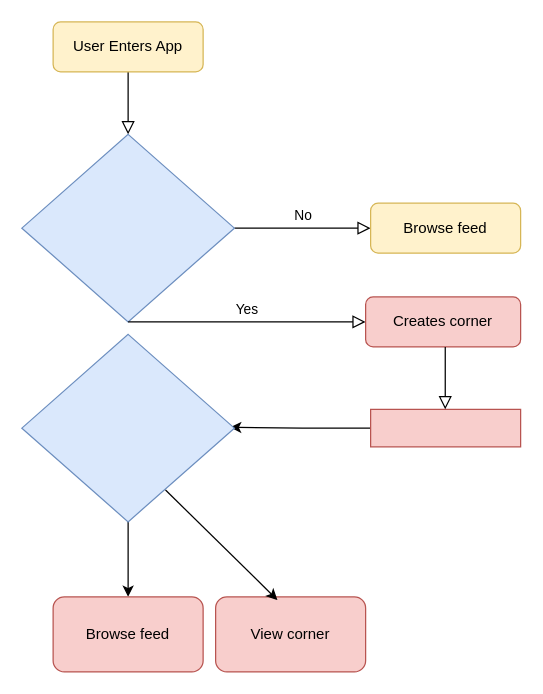
This 543x694 diagram has some shape labels left out. The shapes that lost their labels are listed below. From the top down, each one's box as (x1, y1, x2, y2) in pixels, then its label:
(21, 133, 234, 322): Wants to save content?
(21, 333, 234, 522): Wants to view content?
(369, 408, 521, 447): Saves Content
